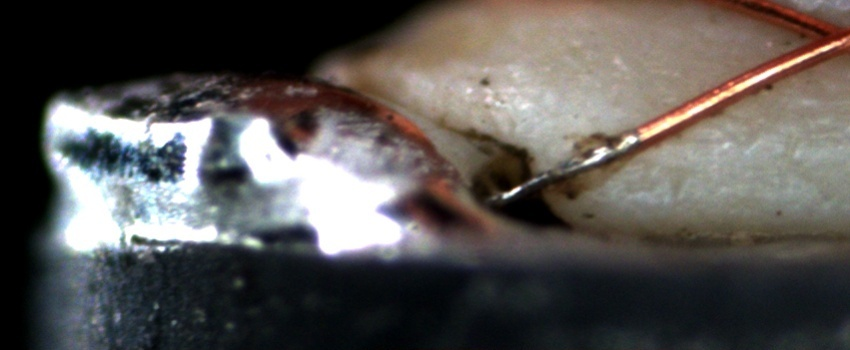CL: (783, 3, 847, 66)
TS: (478, 131, 642, 204)
TTCW: (478, 117, 682, 211)
